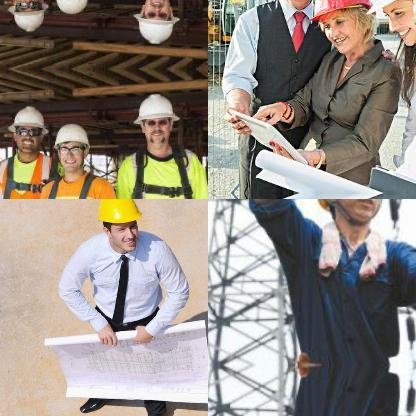Helmet: (311, 0, 373, 53), (91, 199, 144, 258), (132, 89, 178, 151), (6, 101, 48, 155), (132, 0, 180, 47), (313, 199, 399, 225), (50, 118, 92, 170), (367, 0, 415, 45), (5, 0, 50, 35), (49, 0, 93, 18)
